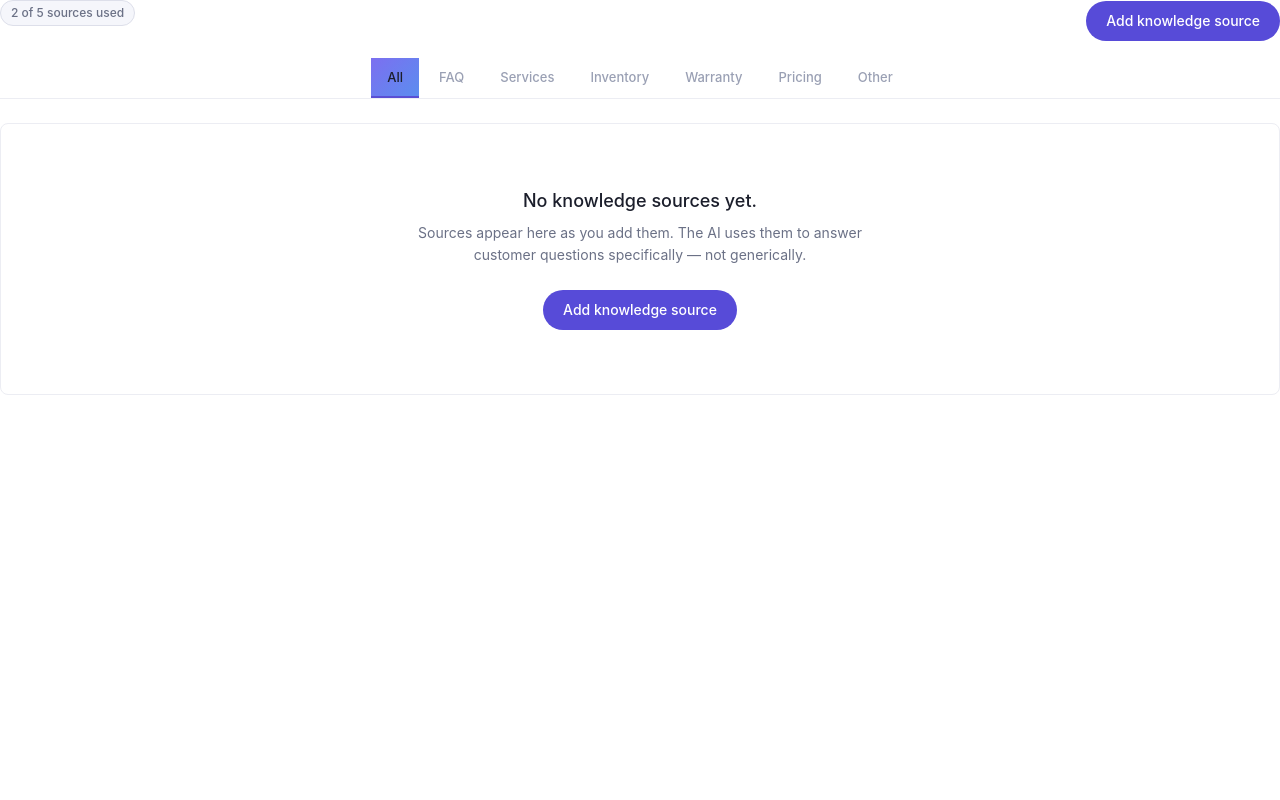
Test: SourceList — KAN-829 sub-cohort 3 › Test 10 — Add CTA below tier limit opens Add Source dialog as before
The width and height of the screenshot is (1280, 800).
Expected: the heading "No knowledge sources yet." is shown, x1=523 y1=188 x2=757 y2=214
Step 1. Click the button "Add knowledge source" in the row of "2 of 5 sources used" → click(1183, 21), box x1=1086 y1=1 x2=1279 y2=41
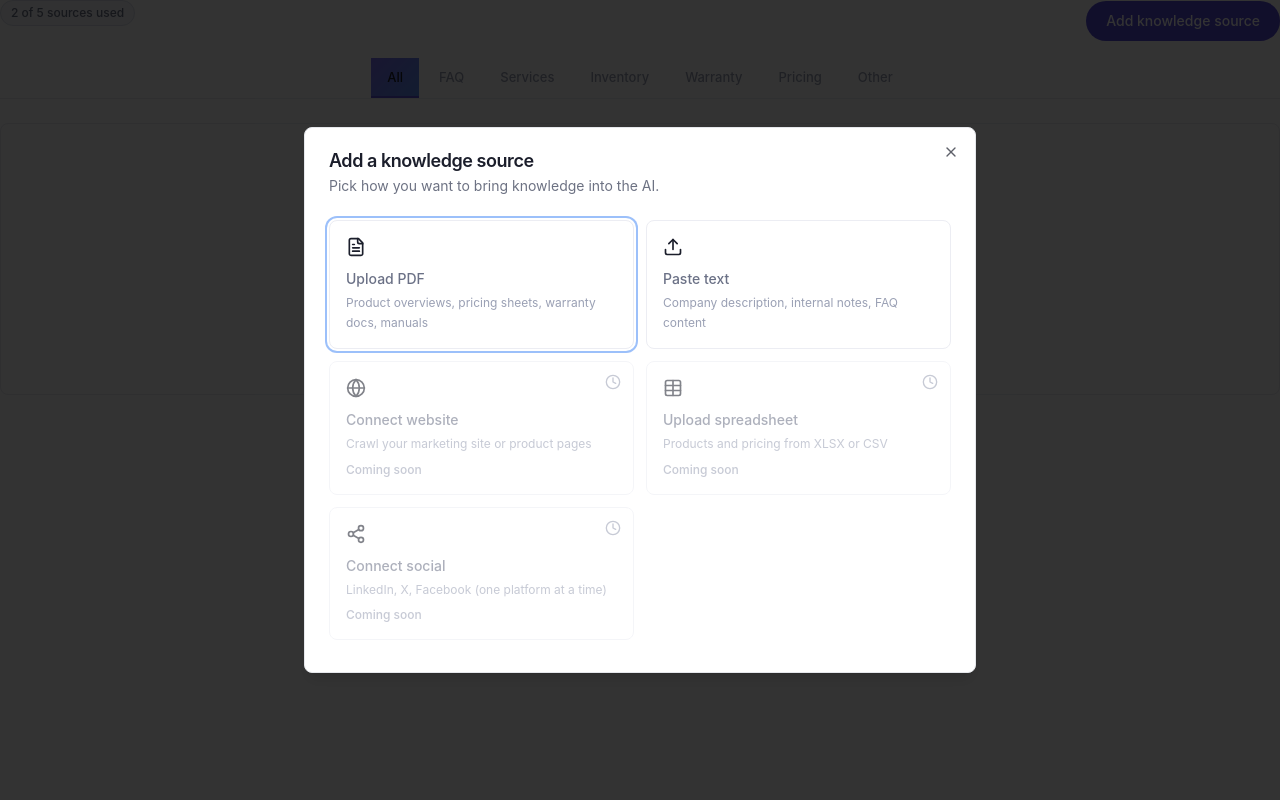
Expected: the heading "Add a knowledge source" is shown, x1=329 y1=150 x2=534 y2=171
